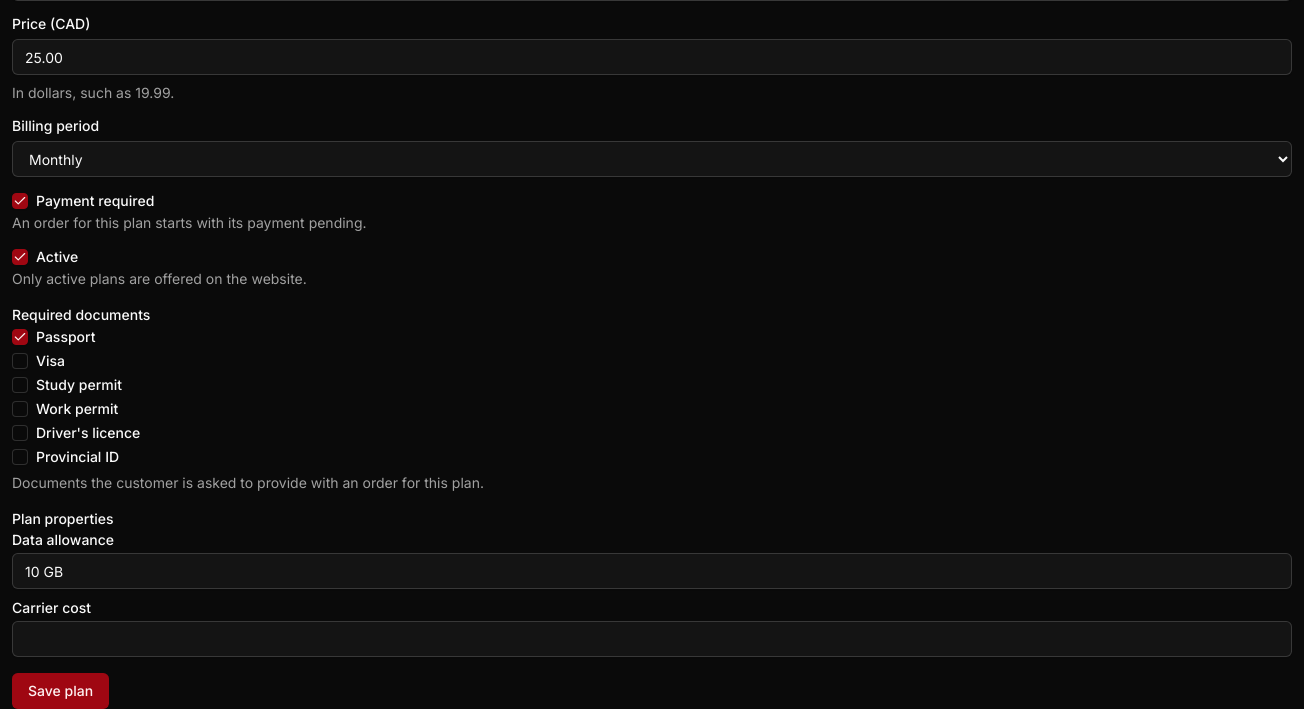
Scenario: PlanEditor when editing › does not save when nothing changed
This screenshot has width=1304, height=709.
(page scrolled)
Click the button "Save plan". click: click(61, 691)
box: [12,673,109,708]
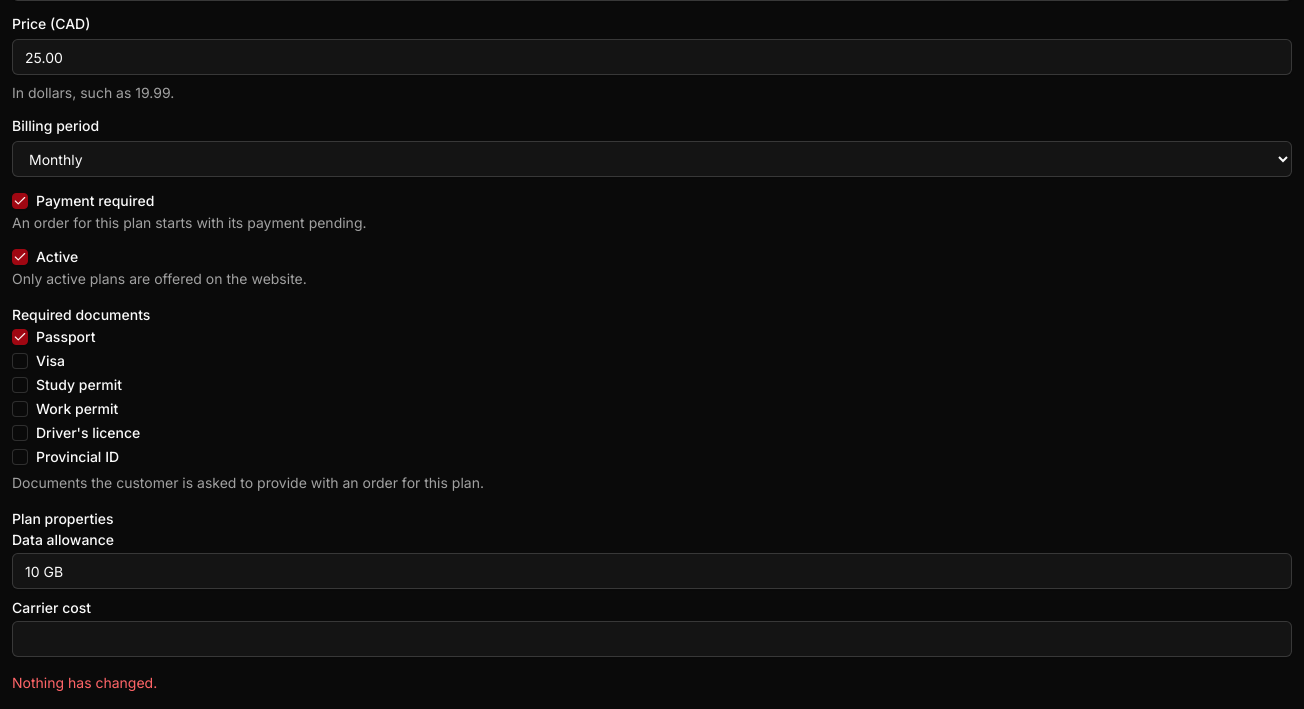
Now the message reads "Nothing has changed.", box [12,674,157,691]
